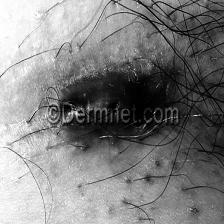Benign Marking or Mole: (47, 80, 169, 132)
